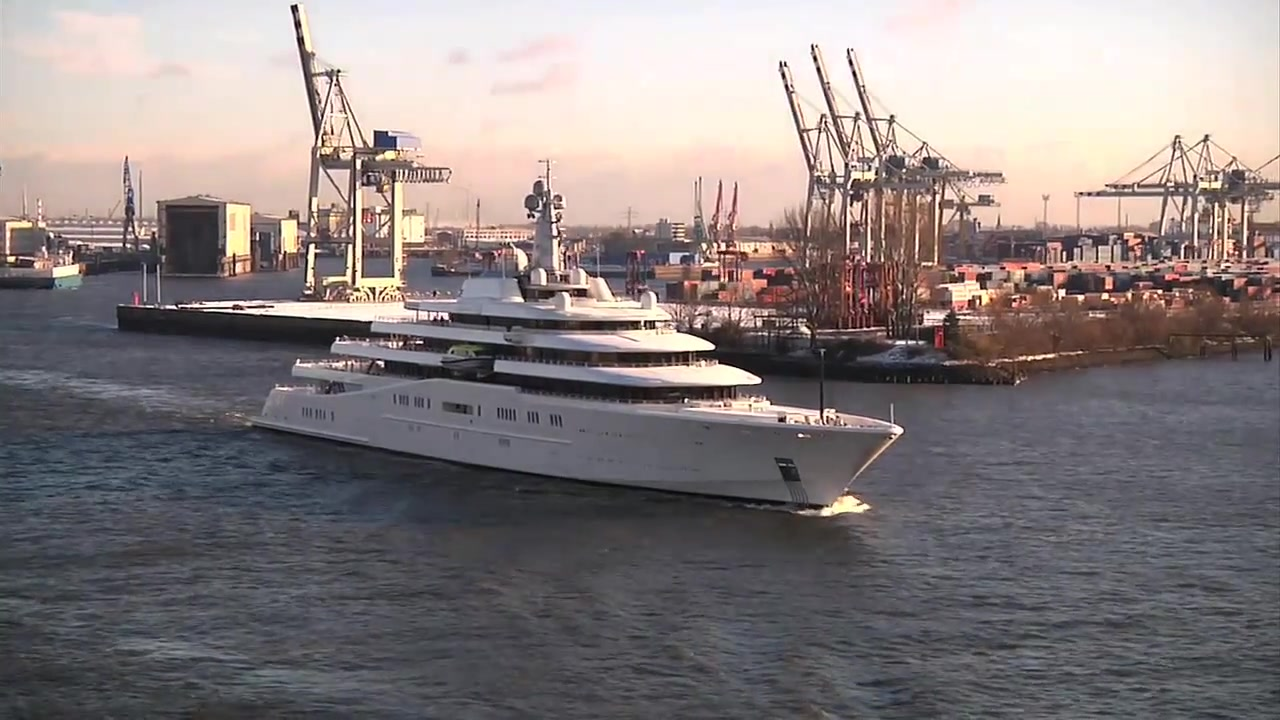boat: (250, 153, 909, 516)
